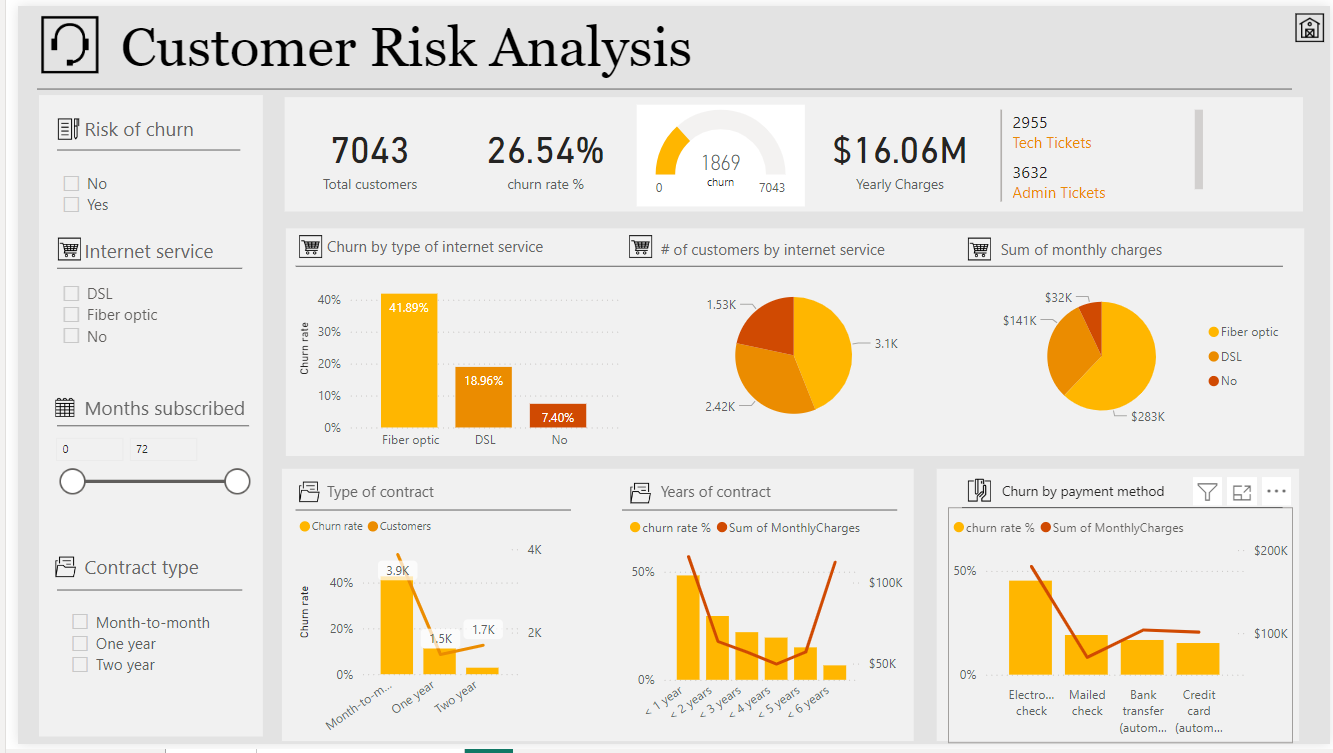

The dashboard page shown, as its layout file describes it:
{"tool":"powerbi","page":{"name":"Customer Risk Analysis","canvas":[1280,720],"ordinal":1},"visuals":[{"type":"basicShape","box":[249.8,87.8,1013.8,113.8],"z":0},{"type":"basicShape","box":[892.2,448.5,360.8,271],"z":1000},{"type":"basicShape","box":[251.8,448.5,628.9,271],"z":2000},{"type":"textbox","box":[94.5,4.8,1167.1,75.2],"z":3000},{"type":"basicShape","box":[9,61,1244.3,40.1],"z":4000},{"type":"basicShape","box":[251.8,214.2,1013.8,226.7],"z":5000},{"type":"basicShape","box":[18.3,81,222.8,638.6],"z":6000},{"type":"card","fields":{"Values":["Count(churn.customerID)"]},"box":[261.4,89,164.9,113.8],"z":7000},{"type":"gauge","fields":{"MaxValue":["CountNonNull(churn.customerID)"],"Y":["churn.Count of Churn for Yes"]},"box":[603.8,96.2,164,99.4],"z":8000},{"type":"slicer","fields":{"Values":["churn.Contract"]},"box":[40.5,584.5,178.4,79.1],"z":9000},{"type":"card","fields":{"Values":["Sum(churn.TotalCharges)"]},"box":[778.4,89,164.9,113.8],"z":10000},{"type":"slicer","fields":{"Values":["churn.Churn"]},"box":[31.8,156.3,173.6,57.9],"z":11000},{"type":"slicer","title":"Number of months subscribed","fields":{"Values":["churn.tenure"]},"box":[24.1,410.9,210.3,70.4],"z":14000},{"type":"image","box":[17.4,4.8,67.5,65.6],"z":15000},{"type":"textbox","box":[59.8,102.2,174.6,40.5],"z":16000},{"type":"basicShape","box":[28,120.6,198.7,39.5],"z":17000},{"type":"textbox","box":[59.8,374.3,185.2,39.5],"z":18000},{"type":"basicShape","box":[28,389.7,207.4,38.6],"z":19000},{"type":"basicShape","box":[28,549.8,200.6,39.5],"z":20000},{"type":"image","box":[31.8,374.3,28,34.7],"z":21000},{"type":"textbox","box":[59.8,529.6,159.2,40.5],"z":22000},{"type":"image","box":[31.8,105.1,34.7,30.9],"z":23000},{"type":"image","box":[31.8,524.7,29.9,45.3],"z":24000},{"type":"textbox","box":[59.8,221.2,180.4,40.5],"z":25000},{"type":"basicShape","box":[28,237,200.6,38.6],"z":26000},{"type":"slicer","fields":{"Values":["churn.InternetService"]},"box":[31.8,263.3,200.6,78.1],"z":27000},{"type":"card","fields":{"Values":["churn.churn rate %"]},"box":[437,89,156.3,113.8],"z":28000},{"type":"lineClusteredColumnComboChart","fields":{"Category":["churn.Contract"],"Y":["churn.churn rate %"],"Y2":["CountNonNull(churn.customerID)"]},"box":[269.1,489,246.9,230.5],"z":29000},{"type":"lineClusteredColumnComboChart","fields":{"Y":["churn.churn rate %"],"Y2":["Sum(churn.MonthlyCharges)"],"Category":["churn.Loyalty"]},"box":[591.3,489,276.8,230.5],"z":30000},{"type":"textbox","box":[296.1,220,300.9,40.5],"z":31000},{"type":"basicShape","box":[261.4,234.4,982.9,39.5],"z":32000},{"type":"clusteredColumnChart","fields":{"Category":["churn.InternetService"],"Y":["churn.churn rate %"]},"box":[269.1,242.1,322.2,198.7],"z":33000},{"type":"pieChart","fields":{"Y":["Sum(churn.MonthlyCharges)"],"Category":["churn.InternetService"]},"box":[949.1,264.3,295.2,154.3],"z":34000},{"type":"pieChart","fields":{"Category":["churn.InternetService"],"Y":["CountNonNull(churn.customerID)"]},"box":[622.2,261.4,270.1,160.1],"z":35000},{"type":"textbox","box":[954,221.9,283.6,40.5],"z":36000},{"type":"textbox","box":[622.2,221.9,285.5,40.5],"z":37000},{"type":"basicShape","box":[261.4,471.7,288.4,39.5],"z":38000},{"type":"textbox","box":[296.1,459.1,237.3,40.5],"z":39000},{"type":"textbox","box":[622.2,459.1,270.1,40.5],"z":40000},{"type":"basicShape","box":[579.7,471.7,288.4,39.5],"z":41000},{"type":"lineClusteredColumnComboChart","fields":{"Y":["churn.churn rate %"],"Y2":["Sum(churn.MonthlyCharges)"],"Category":["churn.PaymentMethod"]},"box":[907.7,489,336.6,230.5],"z":42000},{"type":"basicShape","box":[911.5,469.8,332.8,39.5],"z":43000},{"type":"textbox","box":[954.3,459.1,270.1,40.5],"z":44000},{"type":"multiRowCard","fields":{"Values":["Sum(churn.numTechTickets)","Sum(churn.numAdminTickets)"]},"box":[954,96.2,207.4,99.4],"z":45000},{"type":"image","box":[922.1,452.4,31.8,39.5],"z":46000},{"type":"image","box":[593.2,452.4,29.9,45.3],"z":47000},{"type":"image","box":[269.1,451.4,29.9,45.3],"z":48000},{"type":"image","box":[34.7,219.9,31.8,34.7],"z":49000},{"type":"image","box":[269.1,217,31.8,34.7],"z":50000},{"type":"image","box":[591.3,217,31.8,34.7],"z":51000},{"type":"image","box":[922.1,219.9,31.8,34.7],"z":52000},{"type":"textbox","box":[666.5,156.3,57.9,28.9],"z":53000},{"type":"image","box":[1242,0,38,42.9],"z":55000}]}

Visuals, with their boxes in screenshot pixels (x1, y1, x2, y2), scaled from the page's 1280x720 canvas onto the 1333x753 screenshot:
basicShape: [260,92,1316,211]
basicShape: [929,469,1305,752]
basicShape: [262,469,917,752]
textbox: [98,5,1314,84]
basicShape: [9,64,1305,106]
basicShape: [262,224,1318,461]
basicShape: [19,85,251,752]
card - Count(churn.customerID): [272,93,444,212]
gauge - CountNonNull(churn.customerID) x churn.Count of Churn for Yes: [629,101,800,205]
slicer - churn.Contract: [42,611,228,694]
card - Sum(churn.TotalCharges): [811,93,982,212]
slicer - churn.Churn: [33,163,214,224]
"Number of months subscribed" slicer: [25,430,244,503]
image: [18,5,88,74]
textbox: [62,107,244,149]
basicShape: [29,126,236,167]
textbox: [62,391,255,433]
basicShape: [29,408,245,448]
basicShape: [29,575,238,616]
image: [33,391,62,428]
textbox: [62,554,228,596]
image: [33,110,69,142]
image: [33,549,64,596]
textbox: [62,231,250,274]
basicShape: [29,248,238,288]
slicer - churn.InternetService: [33,275,242,357]
card - churn.churn rate %: [455,93,618,212]
lineClusteredColumnComboChart - churn.Contract x churn.churn rate %: [280,511,537,752]
lineClusteredColumnComboChart - churn.churn rate % x Sum(churn.MonthlyCharges): [616,511,904,752]
textbox: [308,230,622,272]
basicShape: [272,245,1296,286]
clusteredColumnChart - churn.InternetService x churn.churn rate %: [280,253,616,461]
pieChart - Sum(churn.MonthlyCharges) x churn.InternetService: [988,276,1296,438]
pieChart - churn.InternetService x CountNonNull(churn.customerID): [648,273,929,441]
textbox: [994,232,1289,274]
textbox: [648,232,945,274]
basicShape: [272,493,573,535]
textbox: [308,480,555,522]
textbox: [648,480,929,522]
basicShape: [604,493,904,535]
lineClusteredColumnComboChart - churn.churn rate % x Sum(churn.MonthlyCharges): [945,511,1296,752]
basicShape: [949,491,1296,533]
textbox: [994,480,1275,522]
multiRowCard - Sum(churn.numTechTickets) x Sum(churn.numAdminTickets): [994,101,1209,205]
image: [960,473,993,514]
image: [618,473,649,521]
image: [280,472,311,519]
image: [36,230,69,266]
image: [280,227,313,263]
image: [616,227,649,263]
image: [960,230,993,266]
textbox: [694,163,754,194]
image: [1293,0,1332,45]
